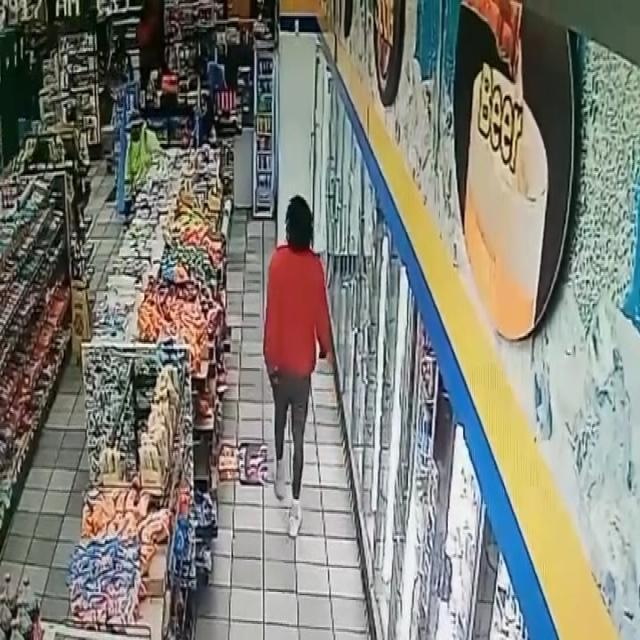normal: (260, 178, 336, 551)
